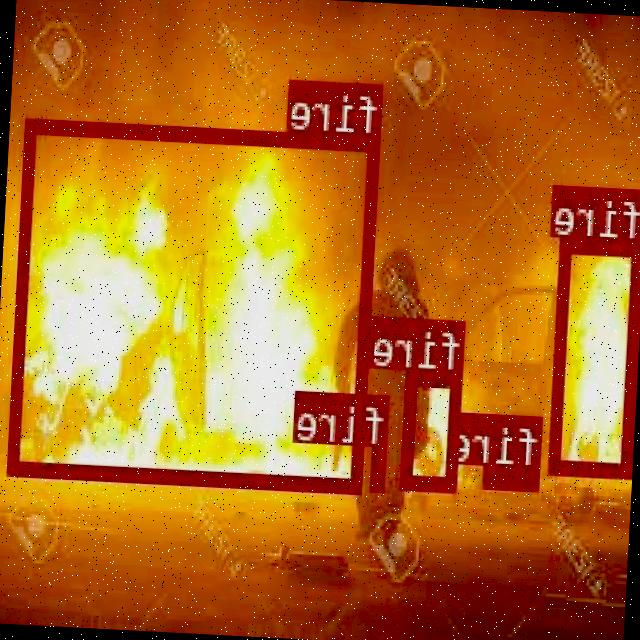fire: (12, 117, 380, 490), (550, 236, 640, 475), (403, 368, 464, 488), (484, 466, 542, 486), (374, 446, 389, 488)
